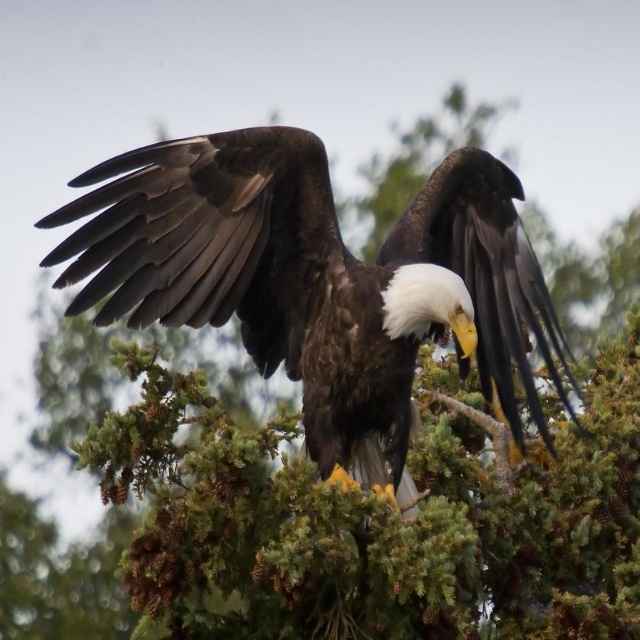Eagle: (34, 125, 588, 529)
